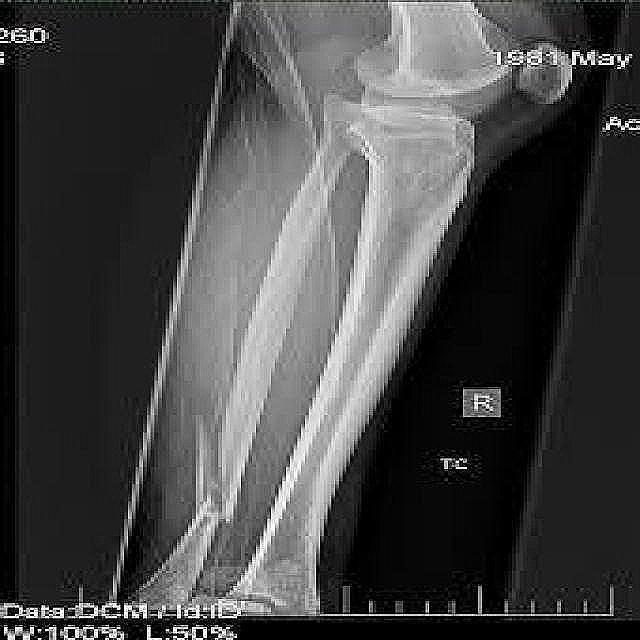bone: (176, 379, 268, 544)
